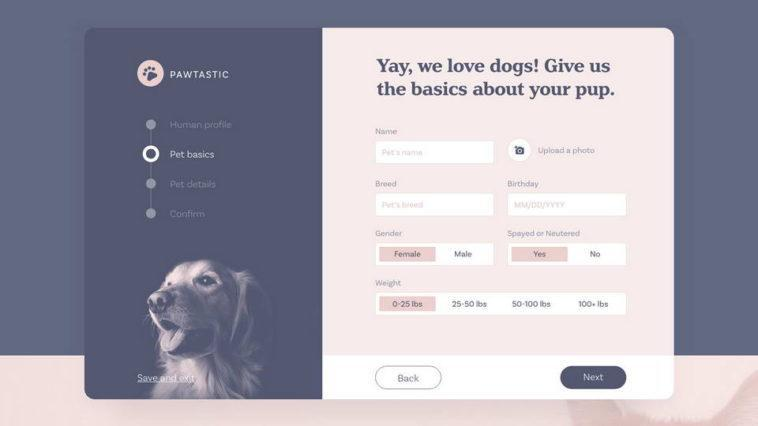button: (376, 365, 443, 392), (560, 367, 627, 392), (379, 247, 438, 264), (512, 247, 570, 263)
icon: (513, 143, 529, 160)
input: (509, 192, 629, 220), (376, 193, 496, 220), (375, 140, 497, 165)
label: (375, 57, 616, 100), (168, 149, 218, 165), (168, 119, 234, 131), (506, 230, 583, 240), (537, 146, 596, 157), (167, 71, 231, 81), (170, 178, 218, 190), (504, 180, 545, 191), (170, 210, 210, 221), (375, 279, 403, 290), (376, 230, 405, 239), (375, 180, 398, 189), (374, 128, 399, 136)
